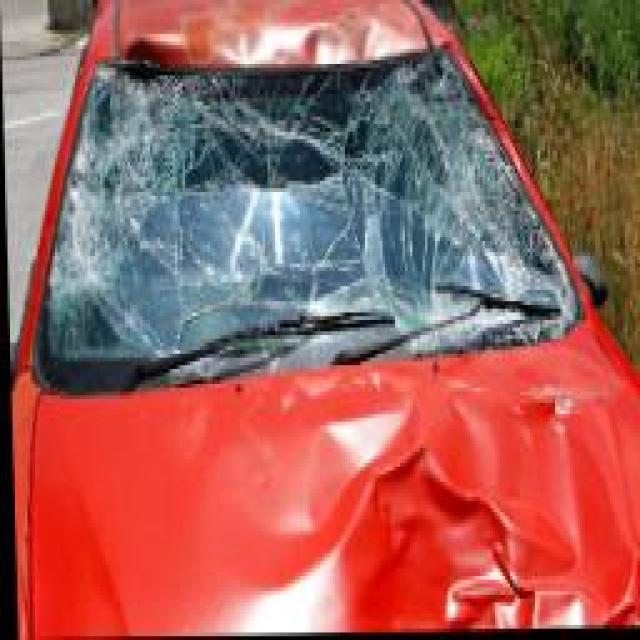Bonnet: (40, 380, 640, 640)
Windshield: (25, 26, 588, 360)
